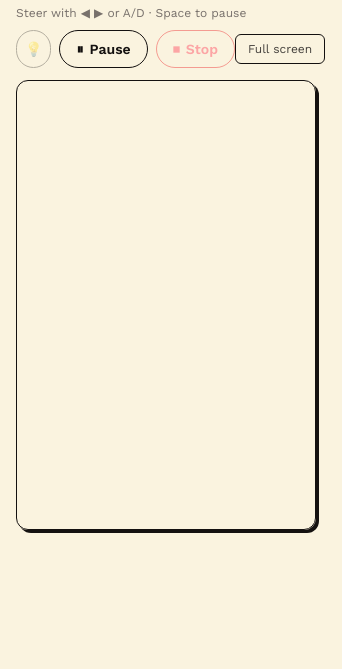
Test: LaneRush › does not stop the race if the in-app confirmation is declined
The width and height of the screenshot is (342, 669).
Click the button labelled "⏹ Stop".
click(195, 49)  # box x1=156 y1=30 x2=235 y2=68
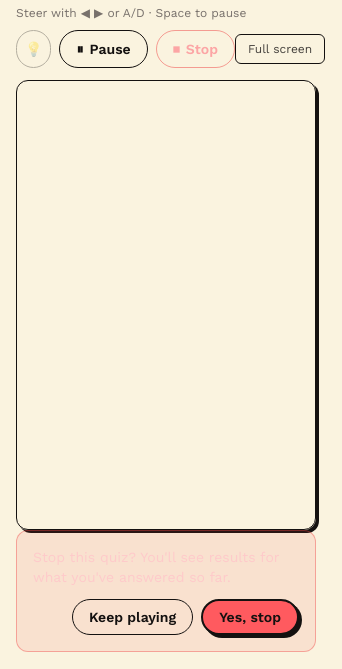
Click the button "Keep playing".
click(133, 617)  # box x1=72 y1=599 x2=193 y2=635
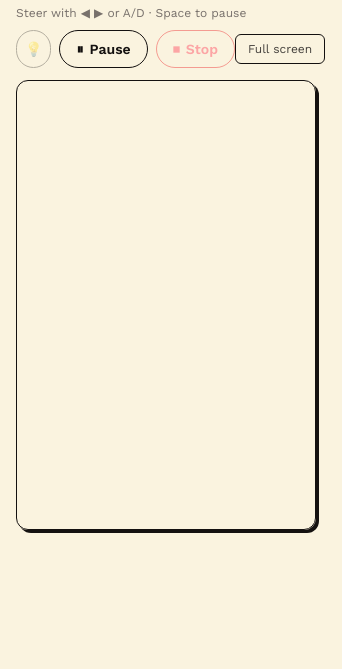
Now the message is gone
